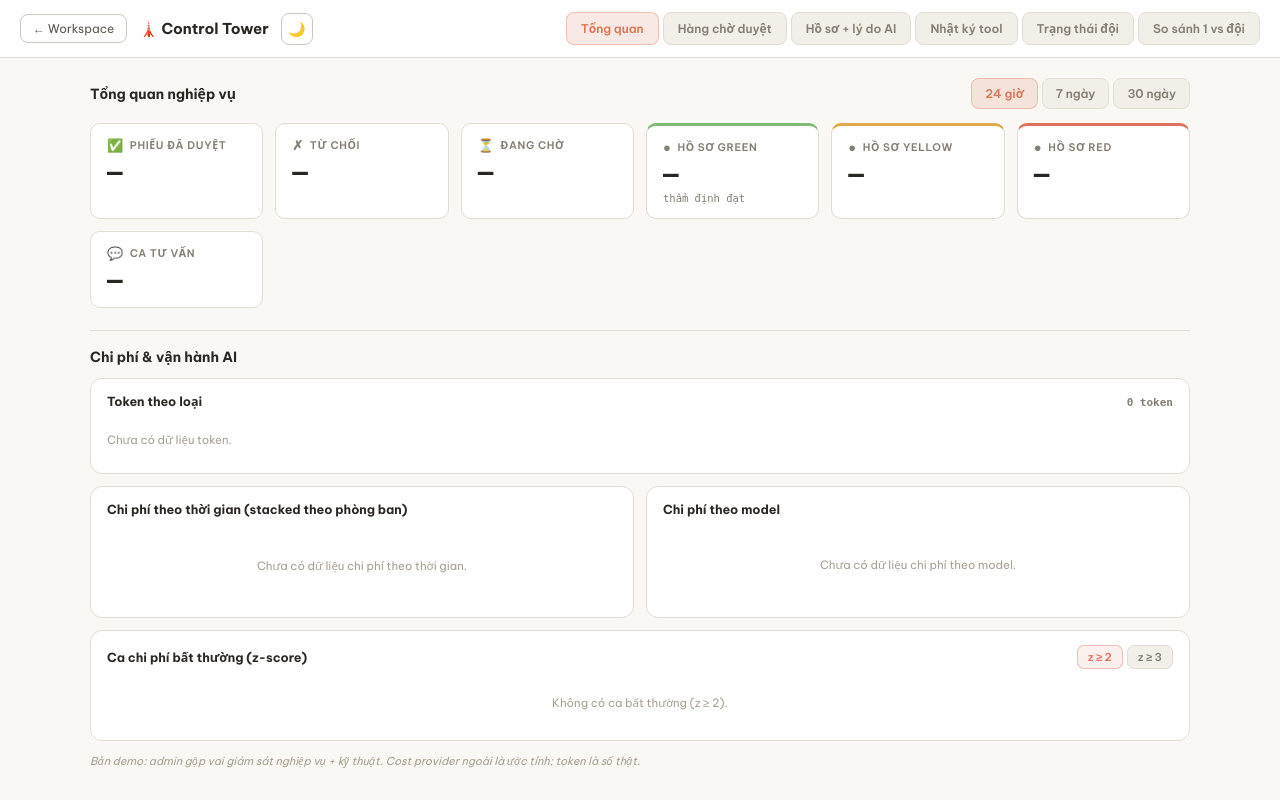
Test: ControlTower › tab Hàng chờ: list phiếu pending + nút Duyệt/Từ chối
Click the button "Hàng chờ duyệt".
click(725, 28)  # box top-left (663, 12), bottom-right (787, 45)
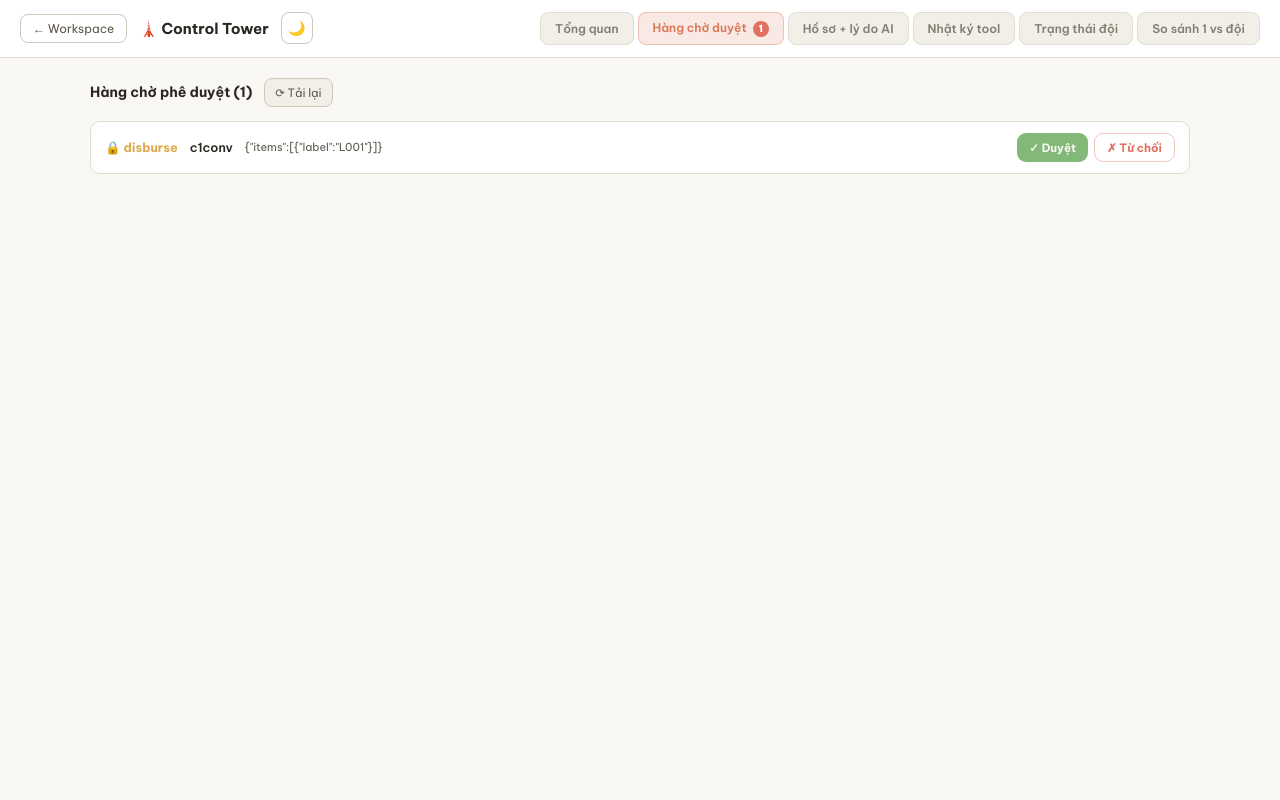
Now the text "🔒 disburse" is shown, box top-left (105, 139), bottom-right (178, 155)
Now the element with test id "queue-row-a1" is shown, box top-left (90, 121), bottom-right (1190, 174)
Now the text "Hàng chờ phê duyệt (1)" is shown, box top-left (90, 83), bottom-right (252, 101)
